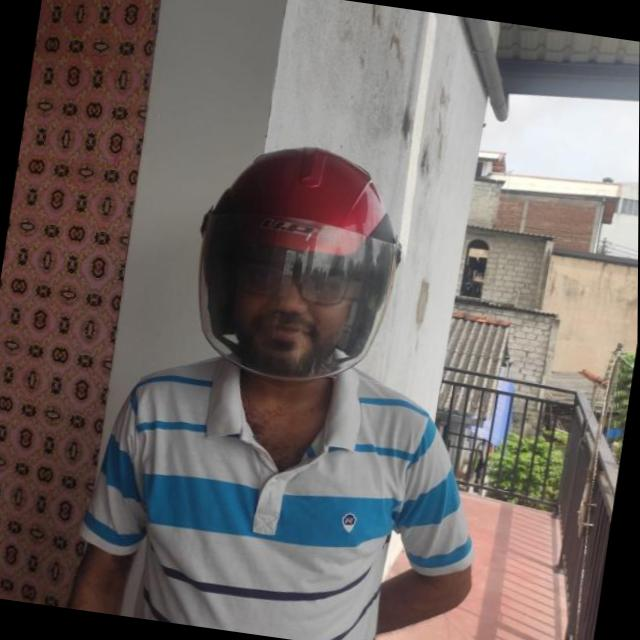WITH_HELMET: (181, 121, 424, 398)
